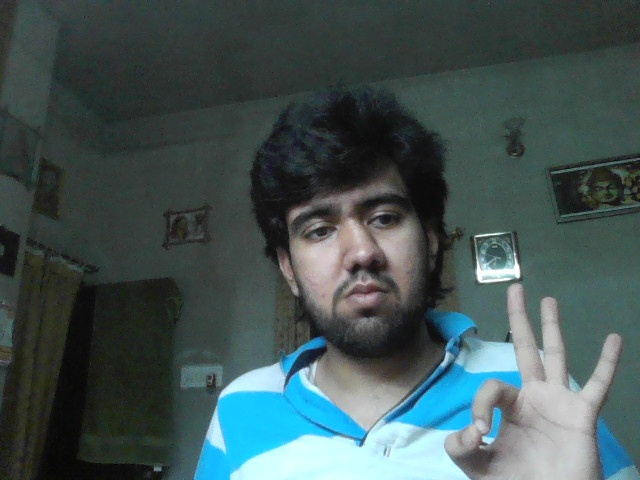Nice: (444, 282, 623, 480)
